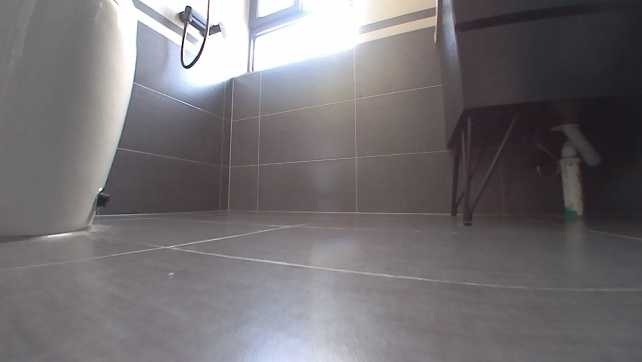toilet: (0, 0, 139, 237)
